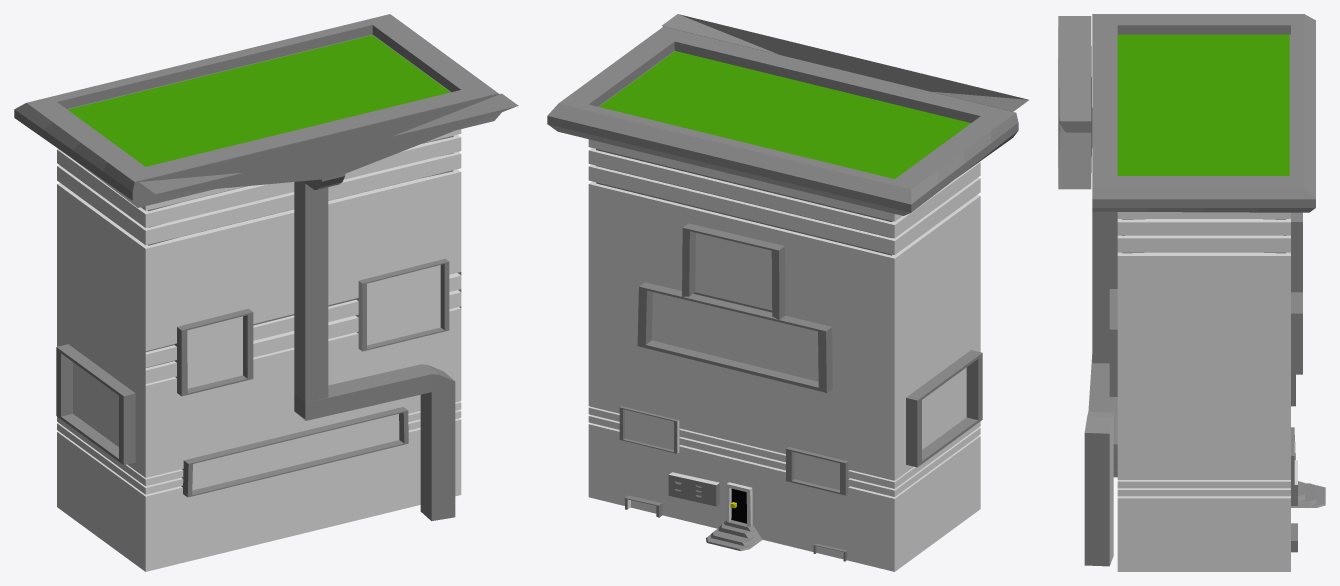
File: huis_4.fbx
3 renders of one model, left to right at view 1: azimuth 30°, elevation 25°; view 2: azimuth 150°, elevation 25°; view 3: azimuth 270°, elevation 25°, orthographic. The views are drawn at different scales.
Visible parts, largest first — view 1: Cube; view 2: Cube; view 3: Cube.
Boxes of the visible parts, x1,y1,x2,y2 form: Cube: (14,14,518,571); Cube: (547,14,1028,571); Cube: (1058,14,1325,571).
Bounding box in the file's own units: 3305 × 3447 × 2085.
